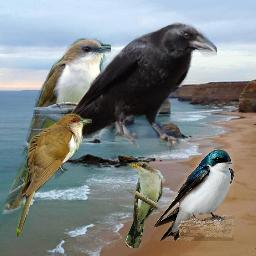Crow: (39, 21, 217, 155)
Cuckoo: (1, 36, 111, 214), (16, 112, 92, 239), (125, 162, 163, 248)
Swallow: (153, 149, 234, 241)
